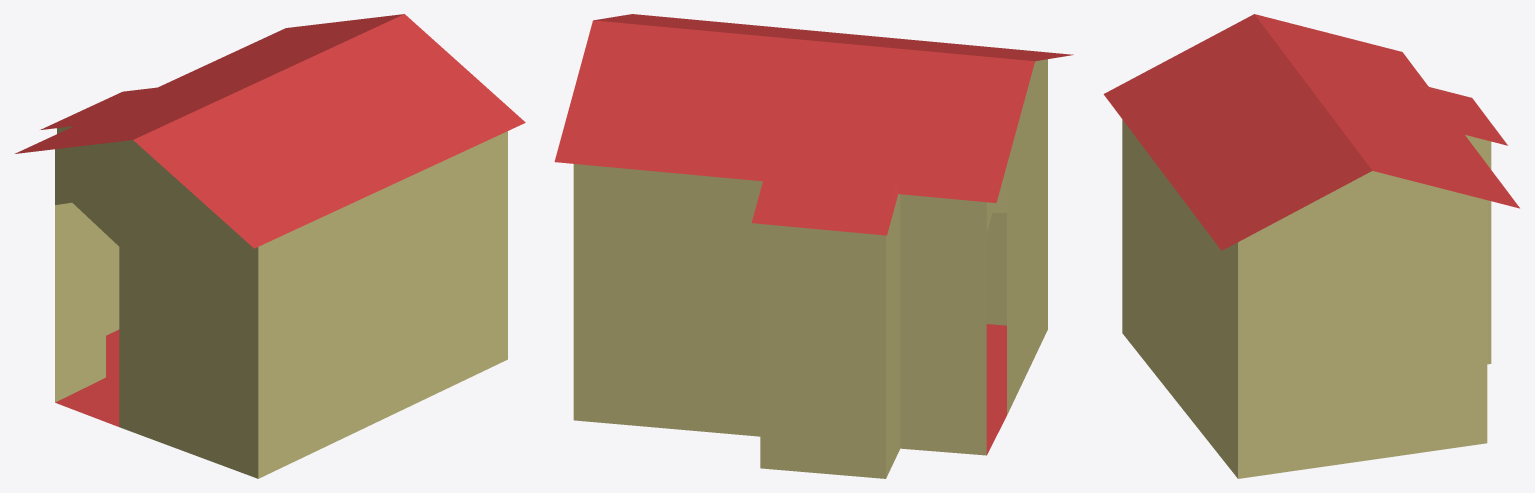
3 renders of one model, left to right at view 1: azimuth 30°, elevation 25°; view 2: azimuth 150°, elevation 25°; view 3: azimuth 270°, elevation 25°, orthographic. The views are drawn at different scales.
Bounding box in the file's own units: 15.61 × 13.96 × 10.8.
